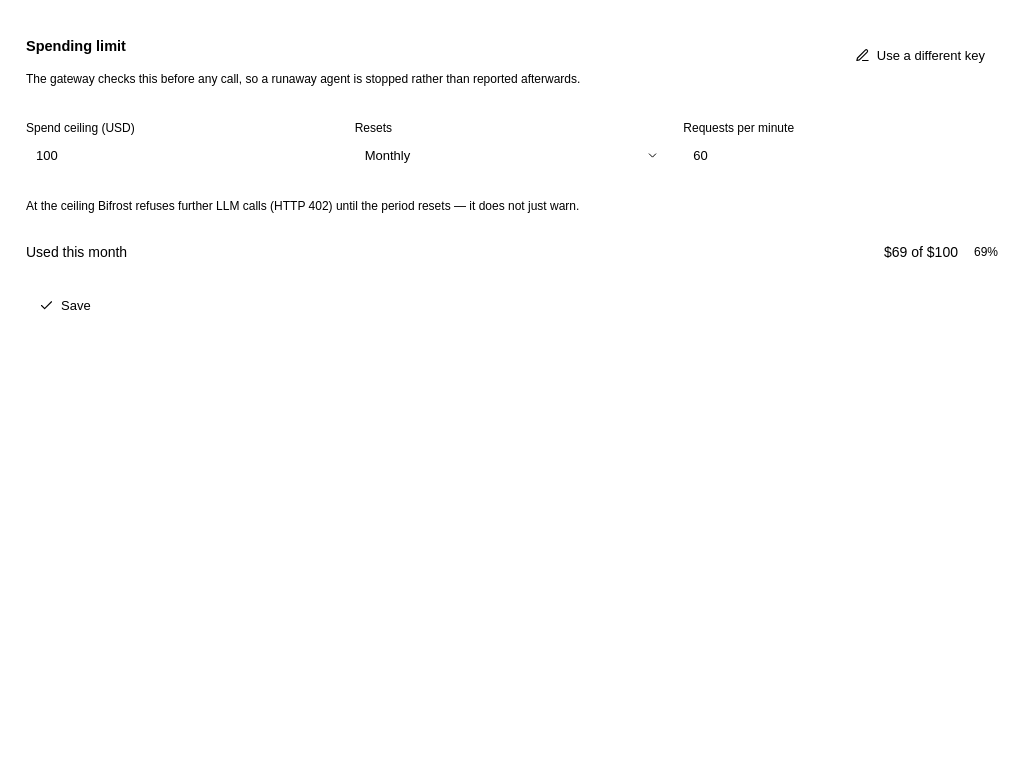
Test: AiBudgetsPanel › confirms before stretching the same ceiling over a shorter period
Click the button "Monthly".
click(387, 156)  # box top-left (355, 141), bottom-right (669, 170)
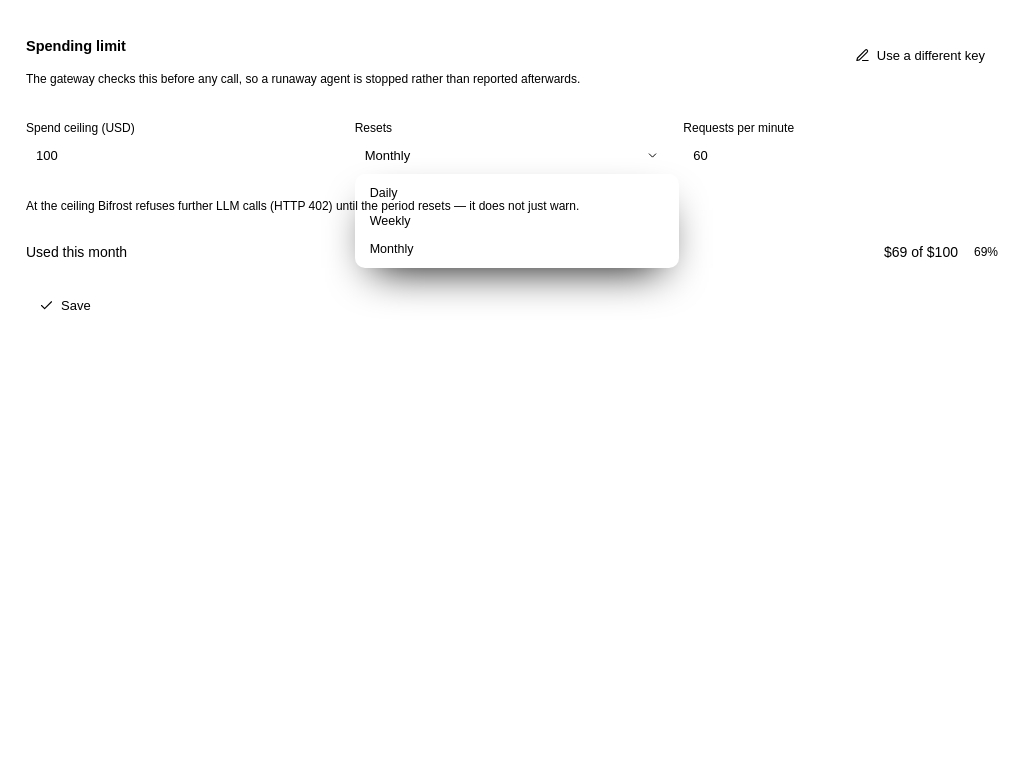
Click the option "Daily".
click(384, 193)  # box top-left (360, 179), bottom-right (674, 207)
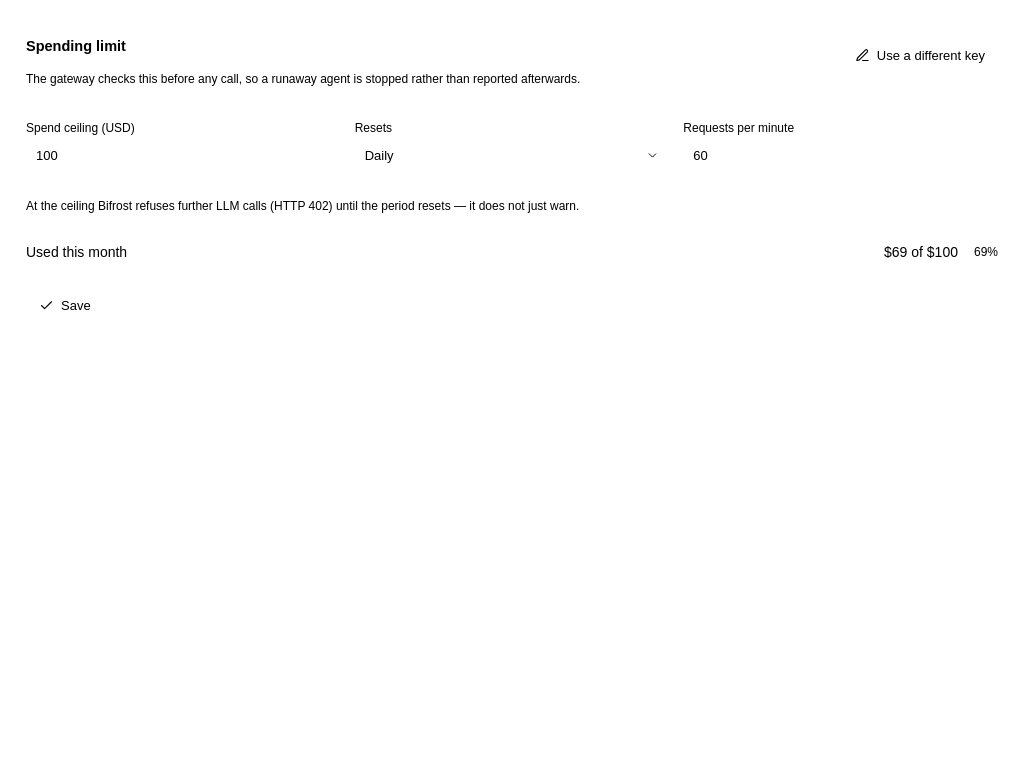
Click the button "Save".
click(65, 306)  # box top-left (26, 290), bottom-right (104, 321)
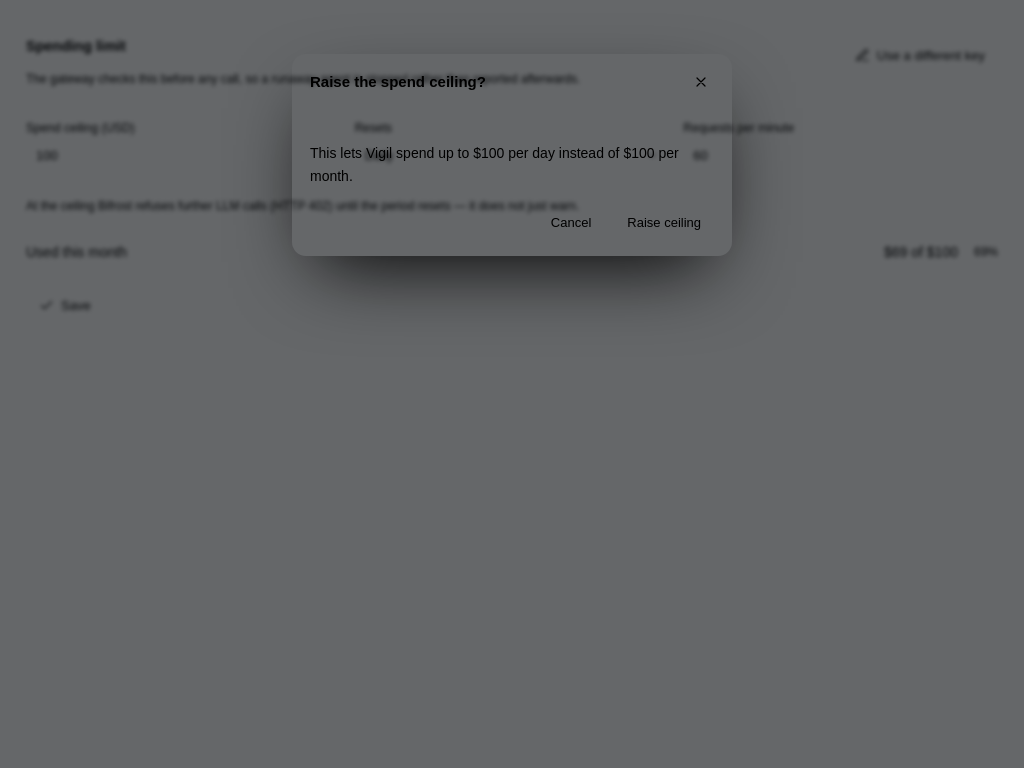
Now the button "Raise ceiling" is shown, box top-left (614, 207), bottom-right (714, 238)
